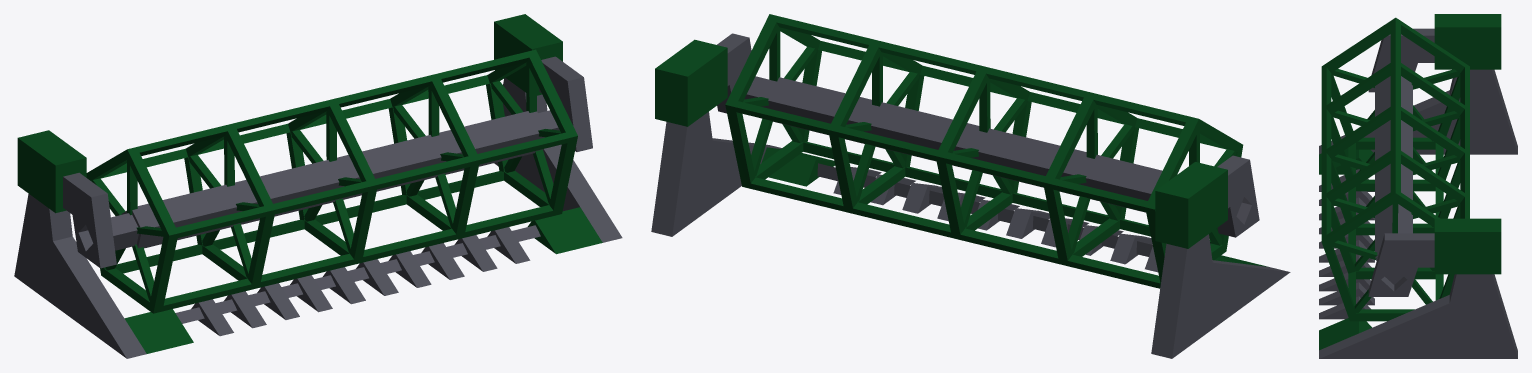
The model's file is Agricultural_Machine_2_3.fbx.
3 views of the same model, side by side, from view 1: azimuth 30°, elevation 25°; view 2: azimuth 150°, elevation 25°; view 3: azimuth 270°, elevation 25° (orthographic). The views are drawn at different scales.
Parts seen in each view (by area): view 1: Agricultural_Machine_2_3; view 2: Agricultural_Machine_2_3; view 3: Agricultural_Machine_2_3.
Part boxes in pixels (x1=…): Agricultural_Machine_2_3: x1=14, y1=14, x2=622, y2=358; Agricultural_Machine_2_3: x1=651, y1=14, x2=1290, y2=358; Agricultural_Machine_2_3: x1=1319, y1=14, x2=1517, y2=358.
Size of the model in its own units: 132 by 41.47 by 50.74.
